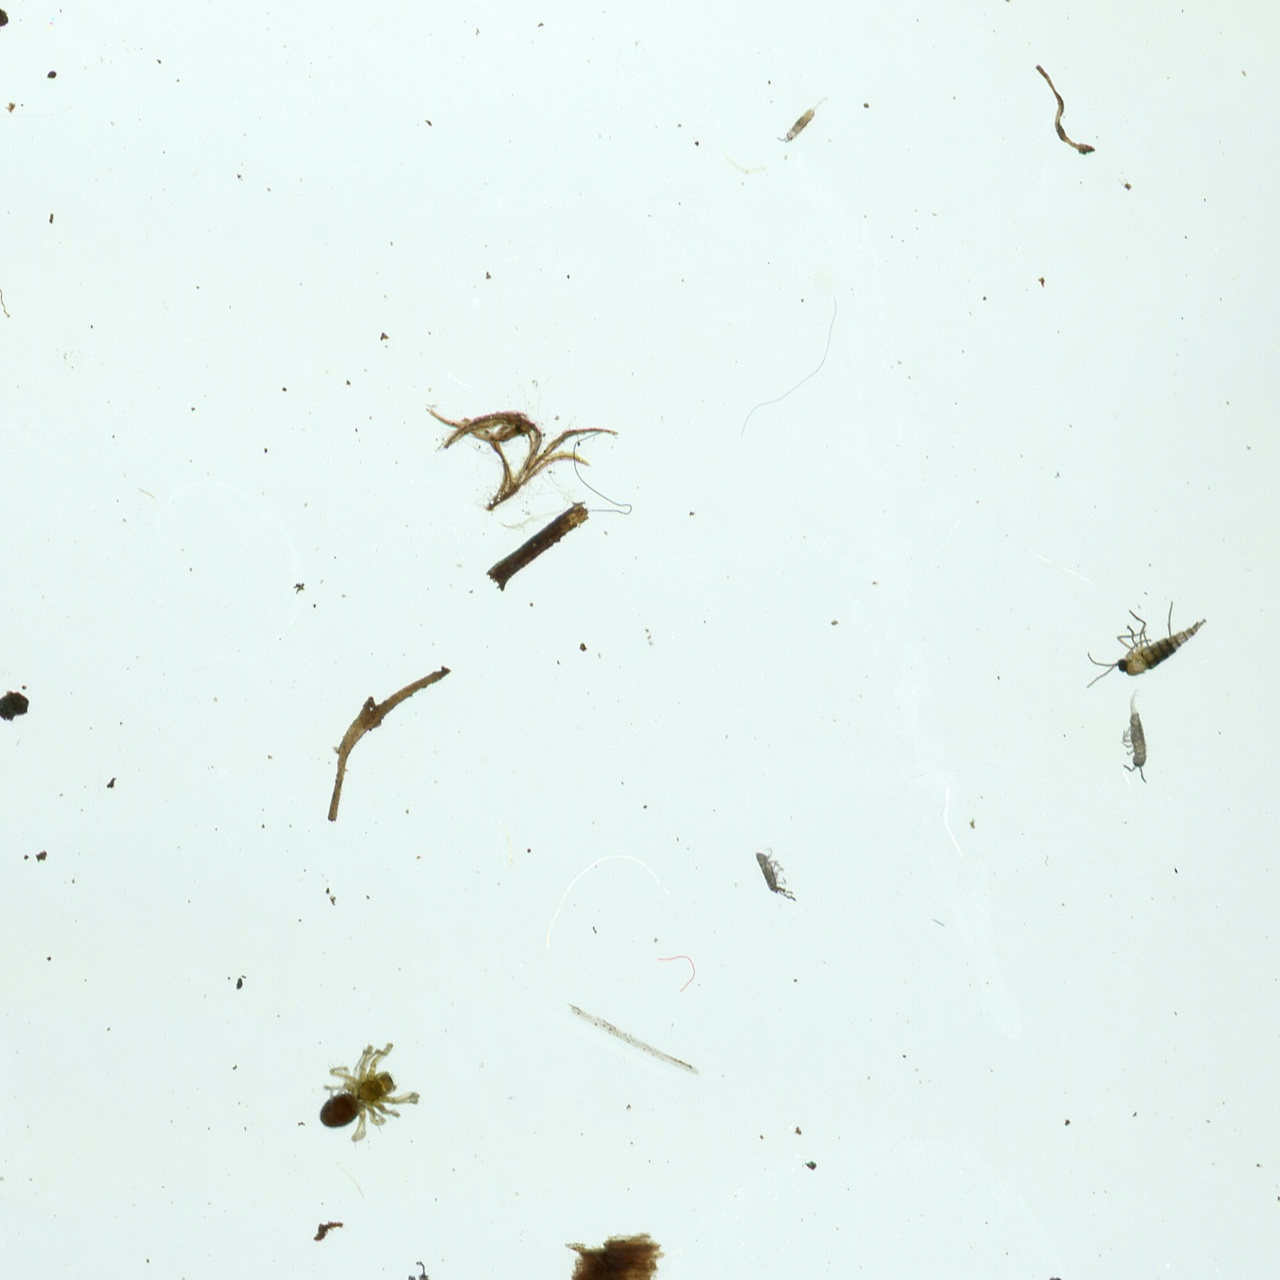arthropod: (1058, 563, 1226, 726), (314, 1033, 427, 1148), (1114, 680, 1158, 792), (771, 86, 835, 155), (749, 840, 803, 908), (360, 1244, 455, 1280)
